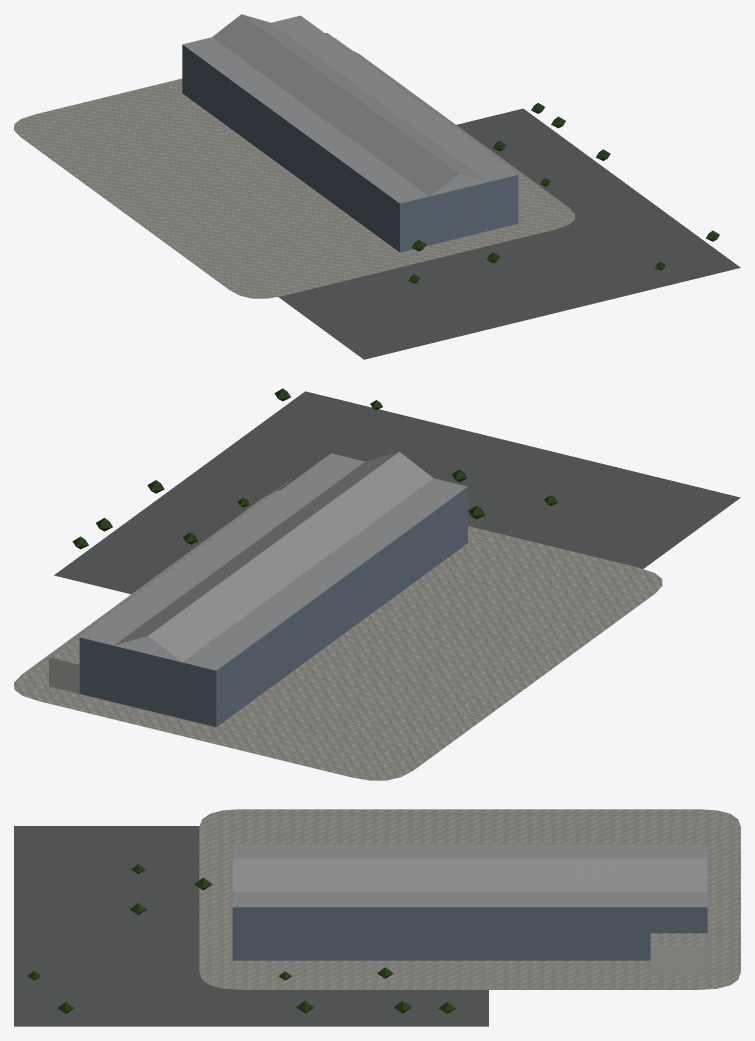
File: cidade_S06_04_lod.gltf
The picture shows the model from 3 angles, top to bottom: view 1: azimuth 30°, elevation 25°; view 2: azimuth 150°, elevation 25°; view 3: azimuth 270°, elevation 25°; orthographic projection. The views are drawn at different scales.
Parts seen in each view (by area): view 1: S06_04_Chao_LOD2, S06_04_Silhueta_LOD2, S06_04_Edificios_LOD1, S06_04_Vegetacao_LOD2; view 2: S06_04_Chao_LOD2, S06_04_Silhueta_LOD2, S06_04_Edificios_LOD1, S06_04_Vegetacao_LOD2; view 3: S06_04_Chao_LOD2, S06_04_Silhueta_LOD2, S06_04_Edificios_LOD1, S06_04_Vegetacao_LOD2.
Part boxes in pixels (x1=…): S06_04_Chao_LOD2: x1=14, y1=49, x2=740, y2=359; S06_04_Silhueta_LOD2: x1=182, y1=15, x2=518, y2=251; S06_04_Edificios_LOD1: x1=182, y1=14, x2=569, y2=252; S06_04_Vegetacao_LOD2: x1=408, y1=103, x2=719, y2=283; S06_04_Chao_LOD2: x1=14, y1=391, x2=740, y2=780; S06_04_Silhueta_LOD2: x1=79, y1=453, x2=467, y2=726; S06_04_Edificios_LOD1: x1=20, y1=452, x2=467, y2=727; S06_04_Vegetacao_LOD2: x1=72, y1=388, x2=557, y2=549; S06_04_Chao_LOD2: x1=14, y1=809, x2=740, y2=1026; S06_04_Silhueta_LOD2: x1=232, y1=844, x2=707, y2=960; S06_04_Edificios_LOD1: x1=214, y1=858, x2=726, y2=974; S06_04_Vegetacao_LOD2: x1=27, y1=864, x2=456, y2=1013.
Bounding box in the file's own units: 109 × 16.57 × 153.
Materials: 7 (7 with a texture image).
